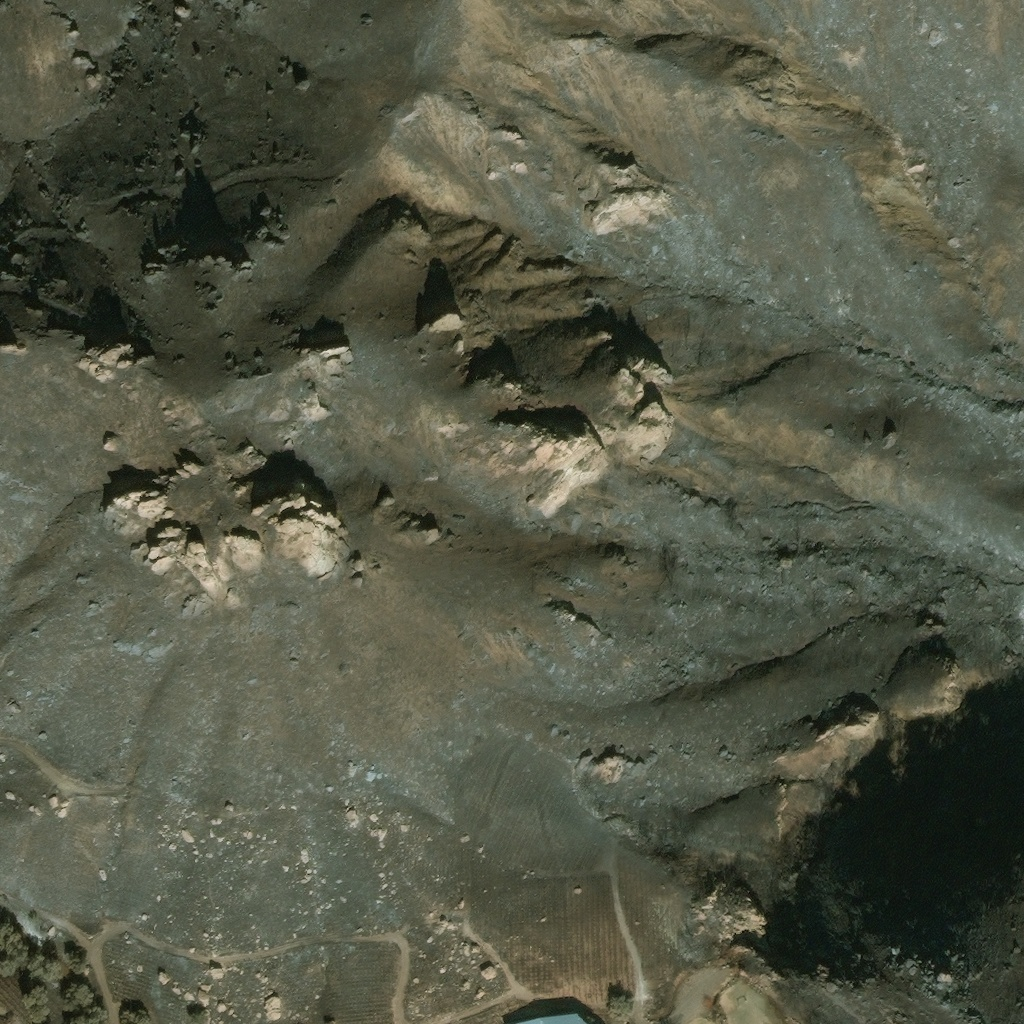4 un-classified: (509, 1012, 590, 1023)
